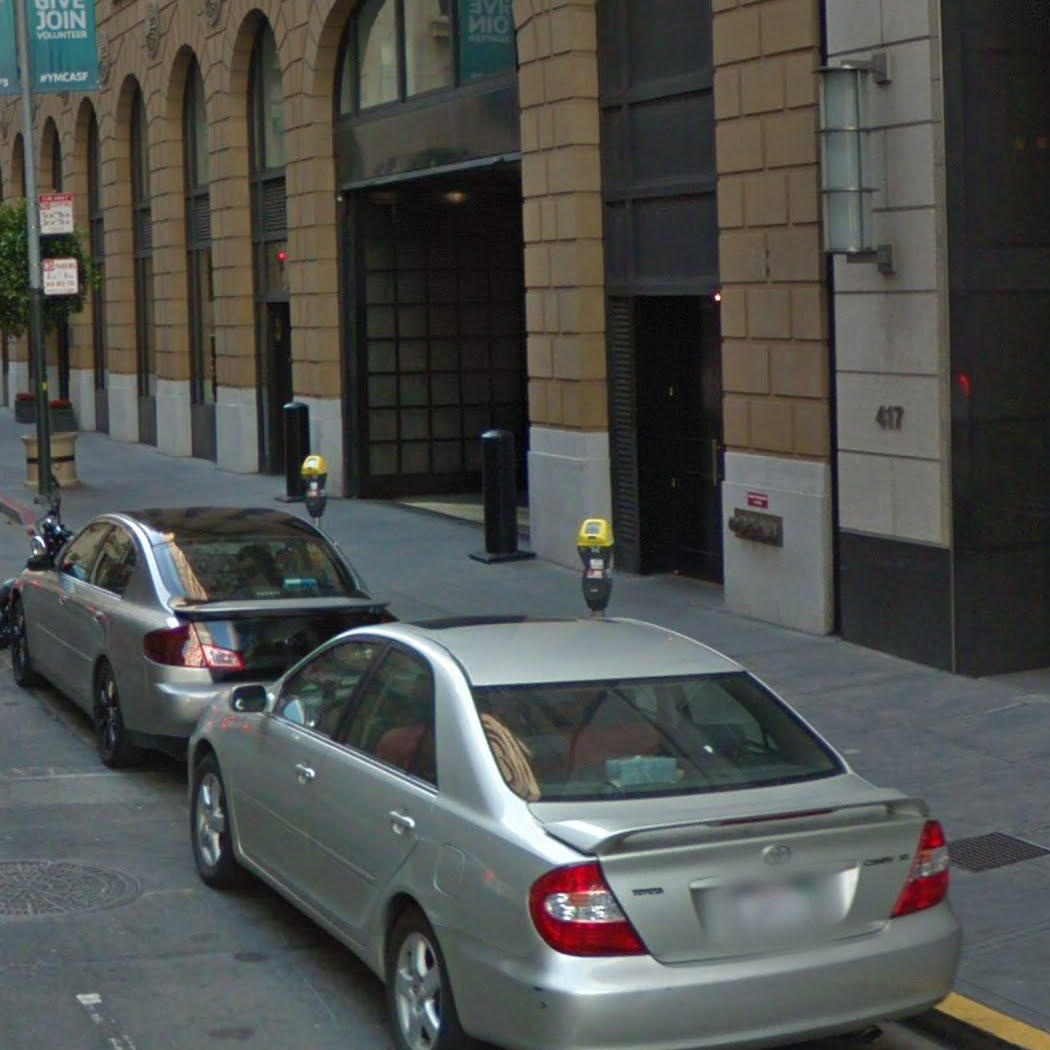No Parking: (37, 191, 76, 236), (40, 256, 81, 296)
